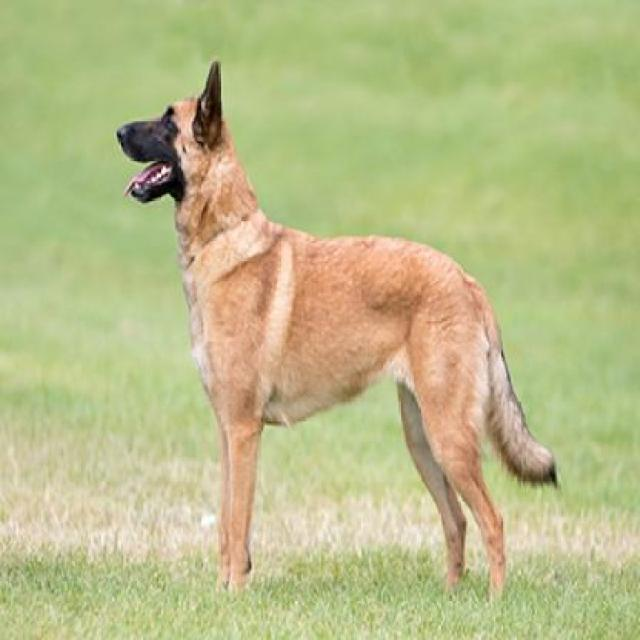animals: (112, 53, 530, 604)
